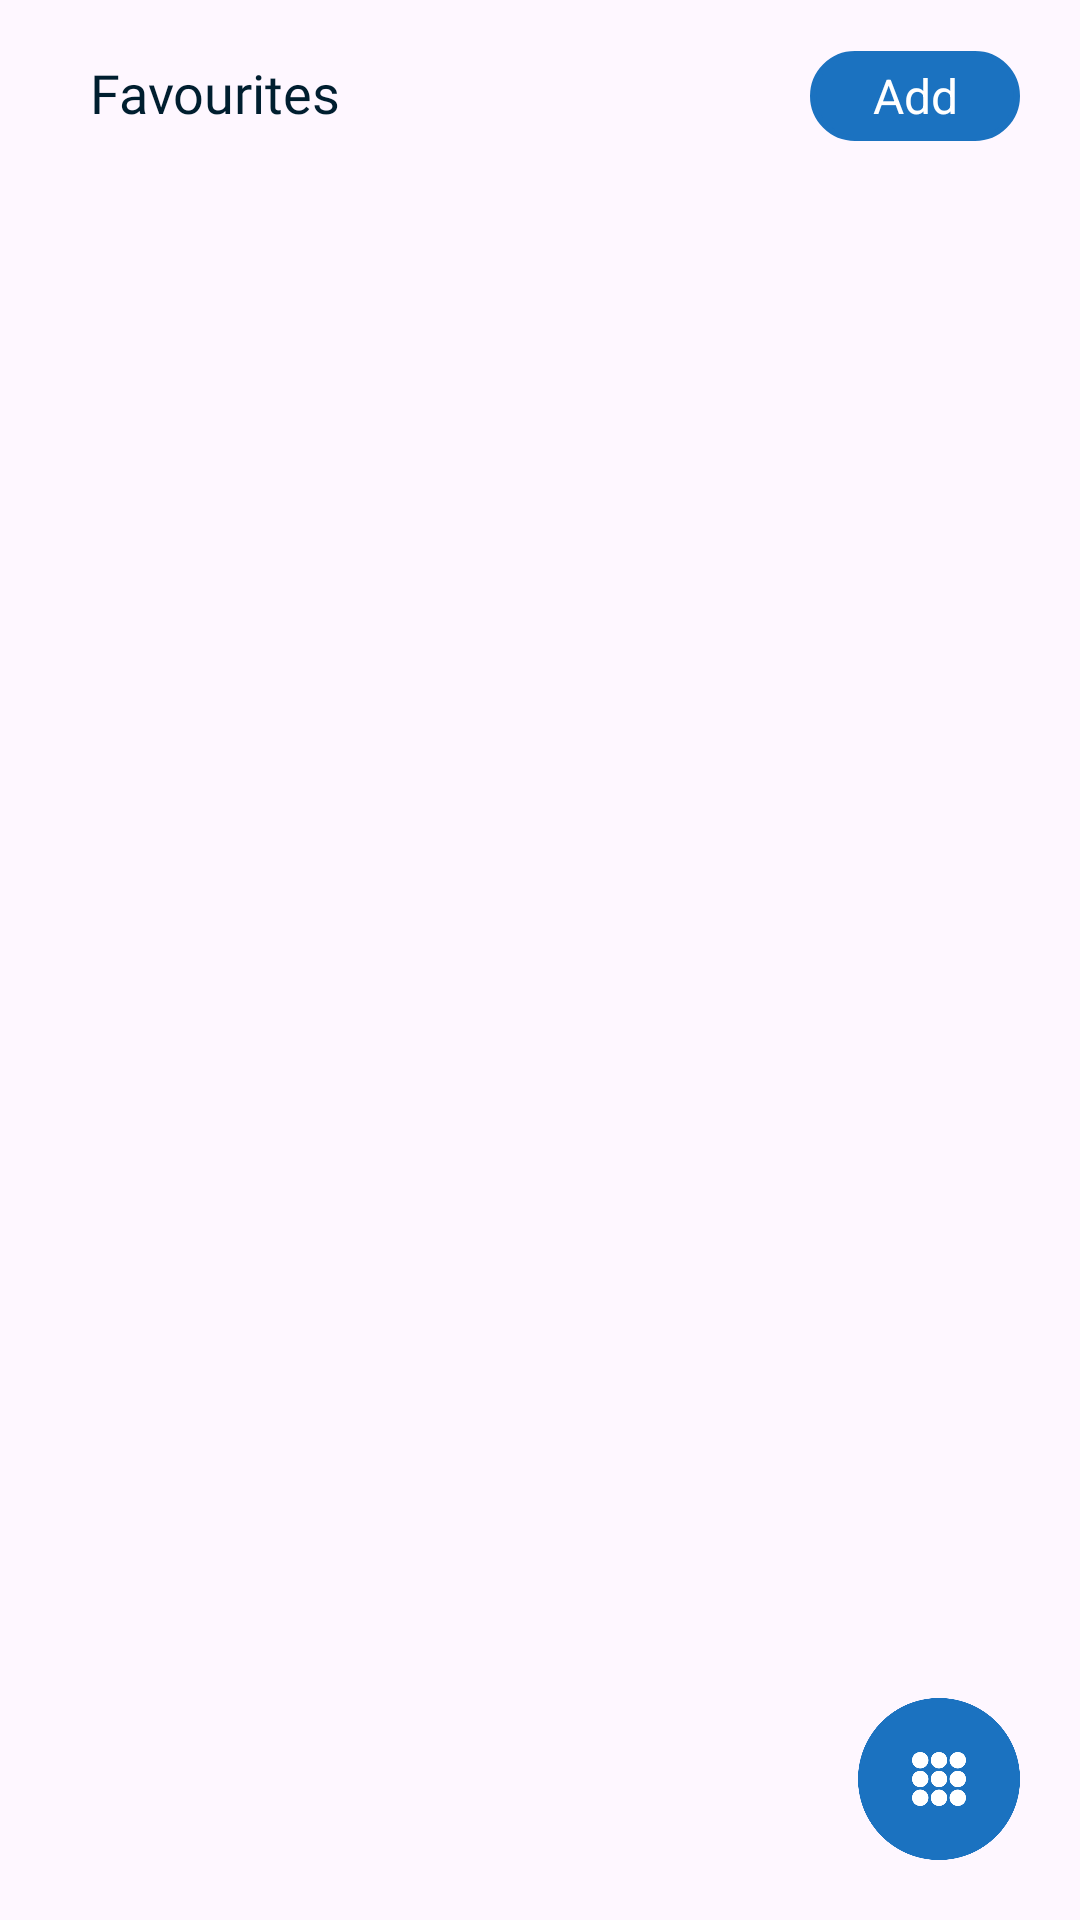

Locate icon controls on the screen. Image size 1080 x 1920, boxes as [x1, y1, x2, y2].
keypad: [858, 1698, 1020, 1860]
